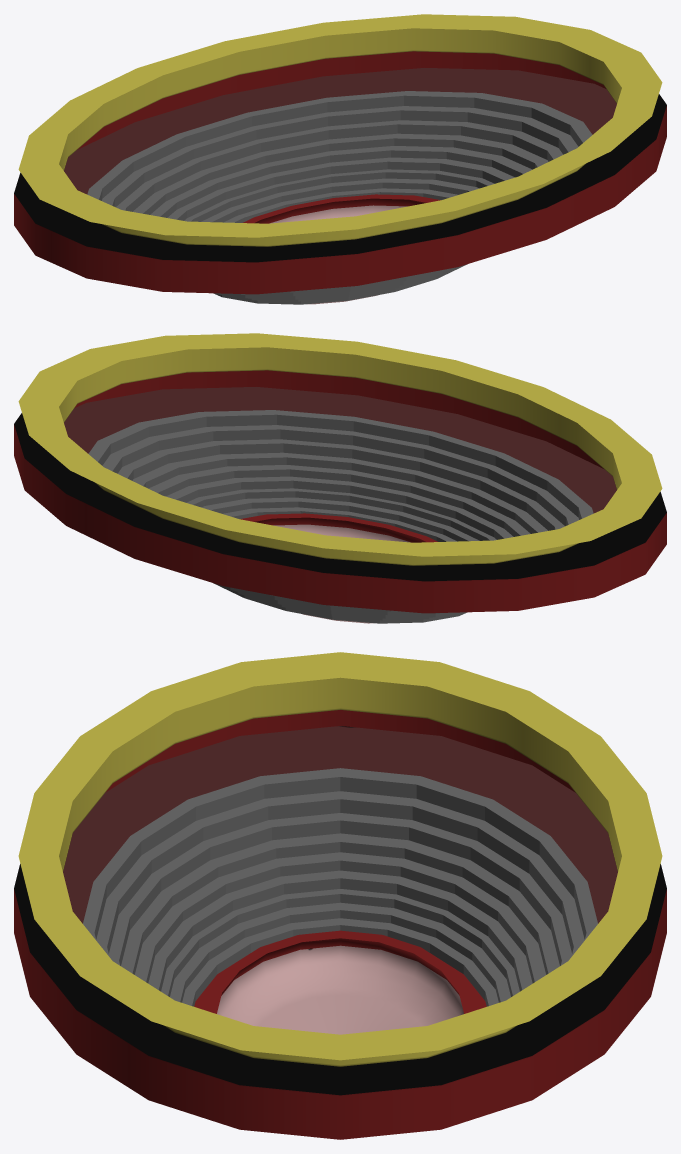
The model's file is SM_Arena.fbx.
3 views of the same model, one above another, from view 1: azimuth 30°, elevation 25°; view 2: azimuth 150°, elevation 25°; view 3: azimuth 270°, elevation 25° (orthographic). The views are drawn at different scales.
Visible parts, largest first — view 1: Arena; view 2: Arena; view 3: Arena.
Part boxes in pixels (x1,y1,x2,y2): Arena: (14, 14, 666, 304); Arena: (14, 333, 666, 623); Arena: (14, 652, 666, 1139).
Size of the model in its own units: 4727 by 1132 by 3151.
